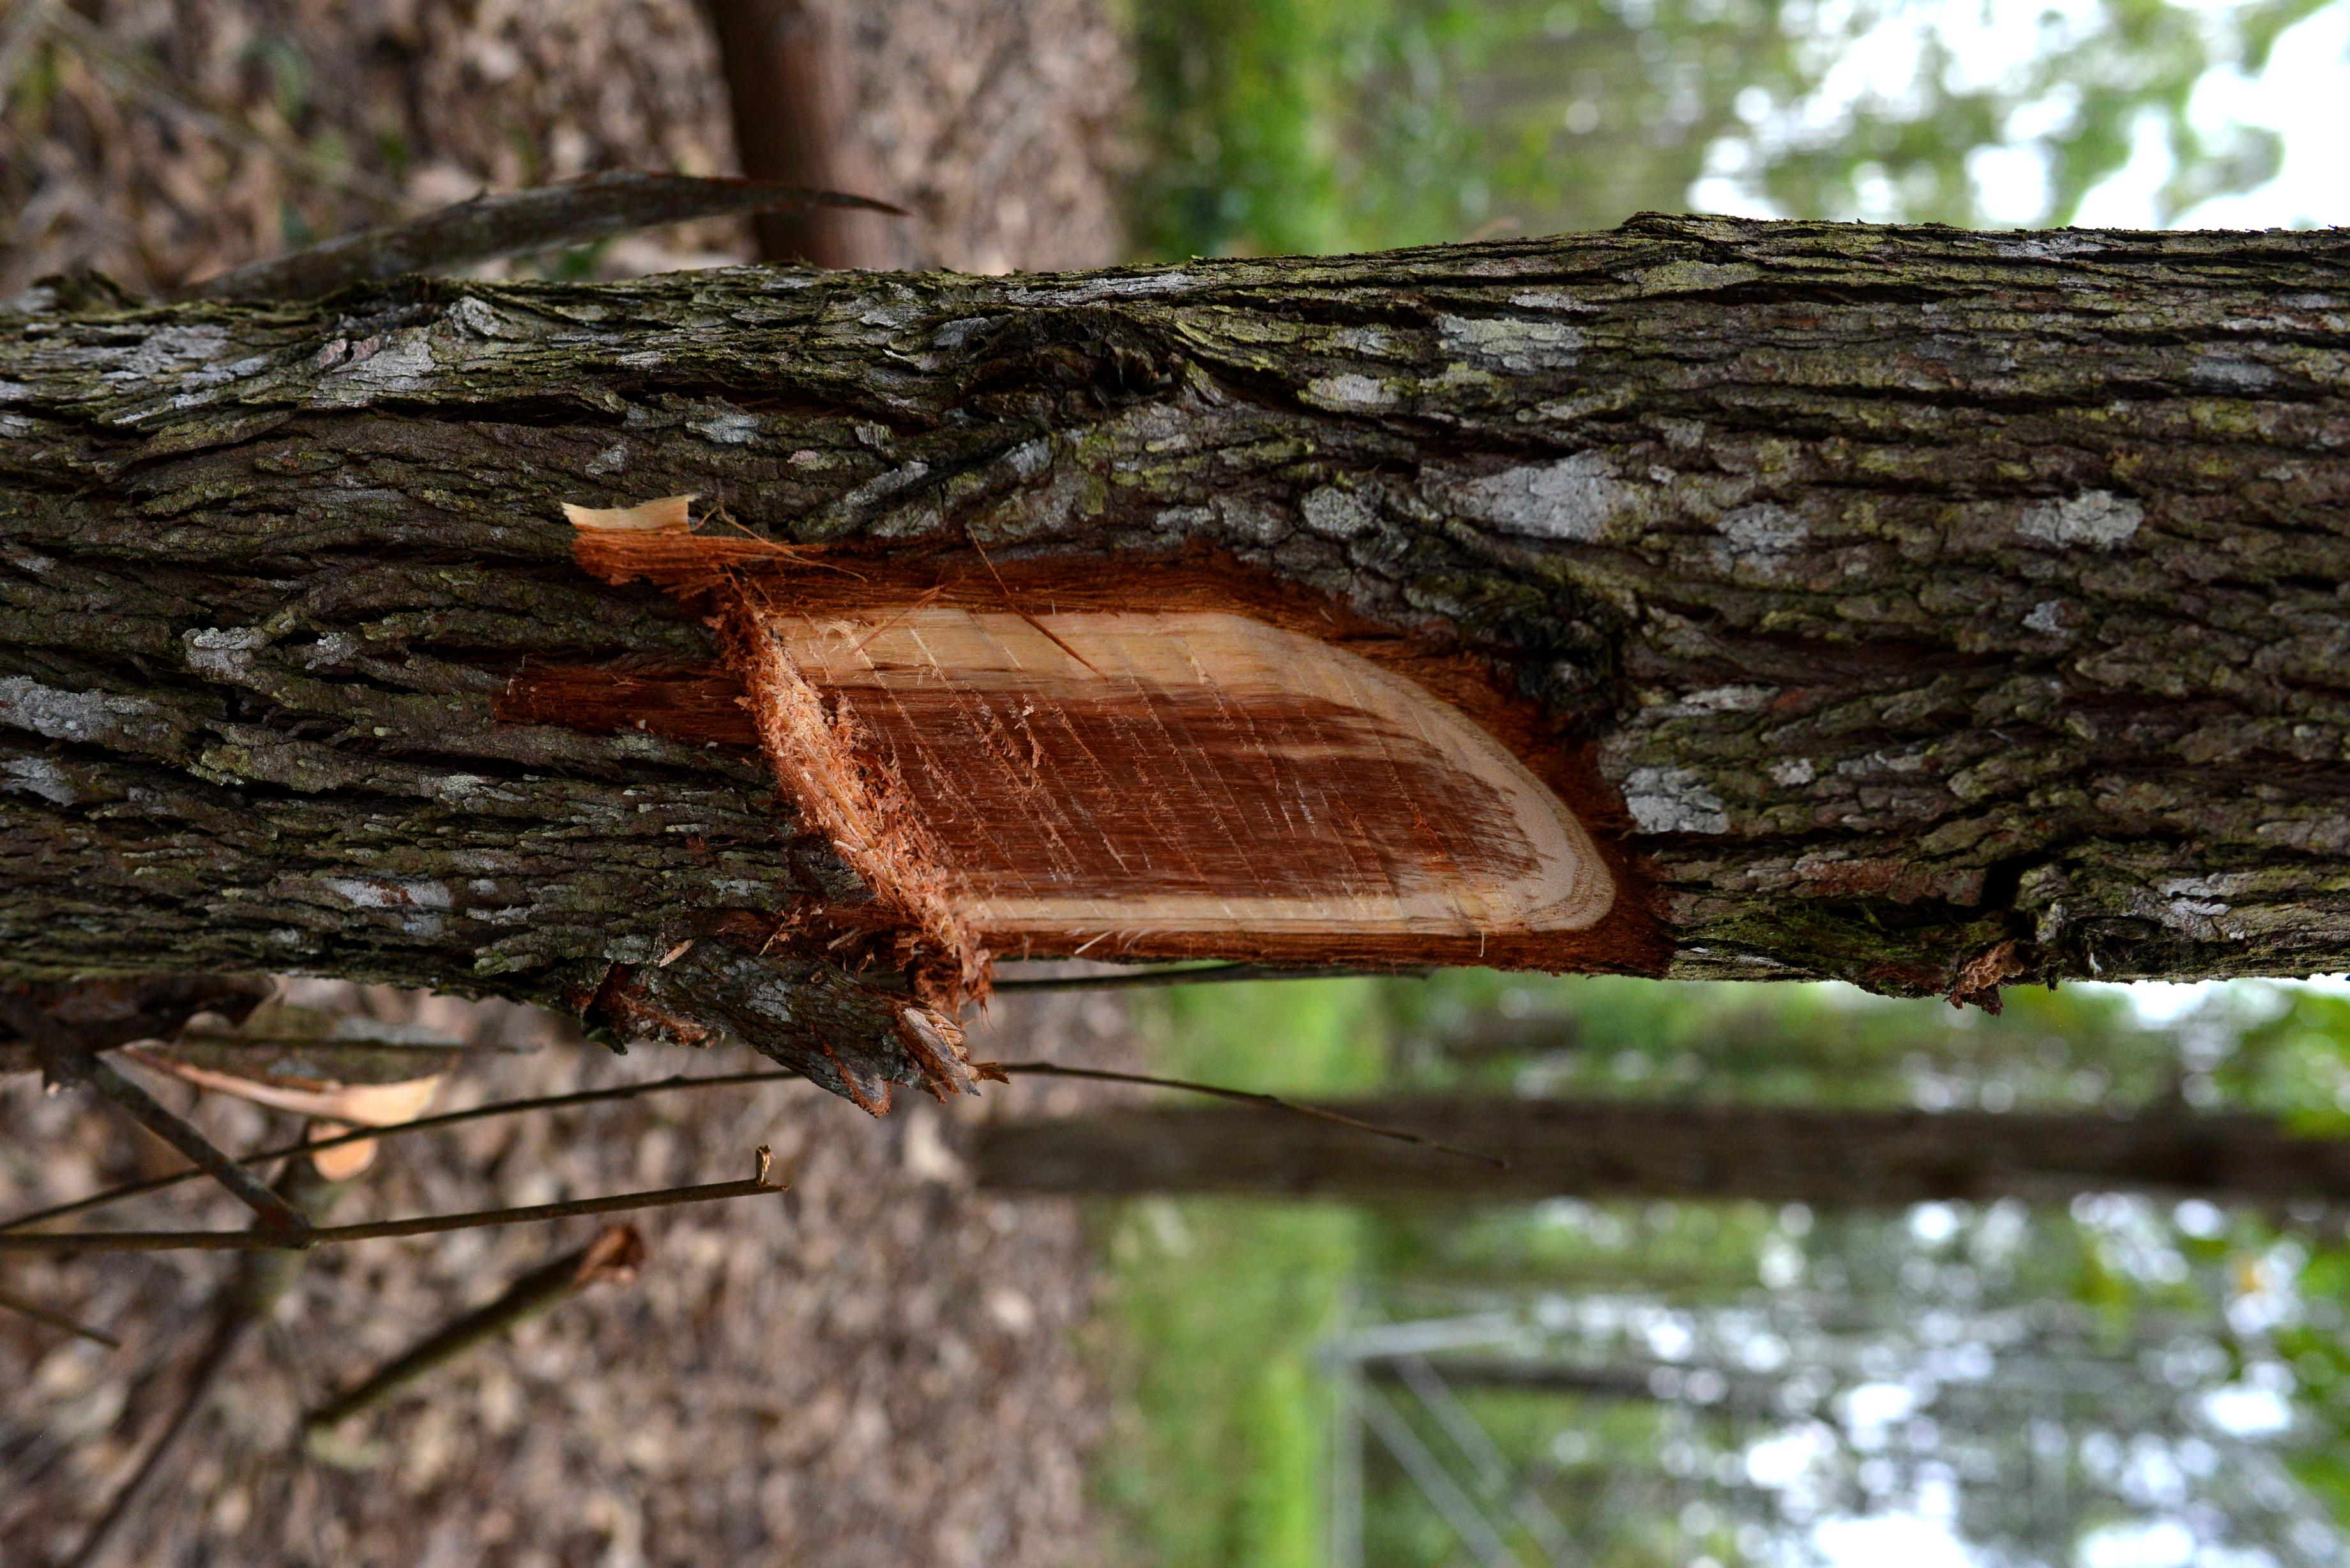Ceratocystis - Inner: (672, 534, 1675, 982)
